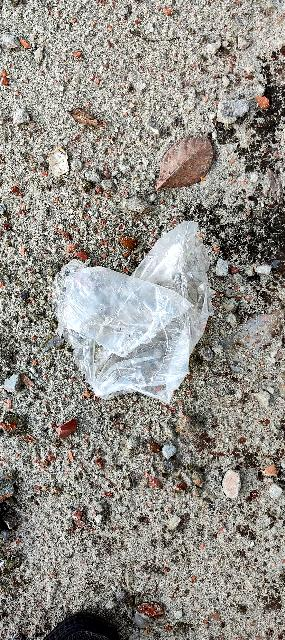polythene: (46, 222, 263, 430)
